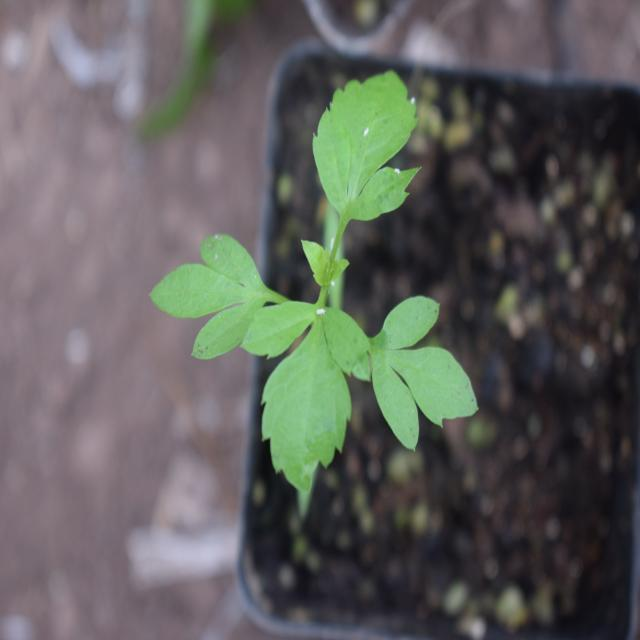Bidens pilosa: (152, 71, 492, 487)
